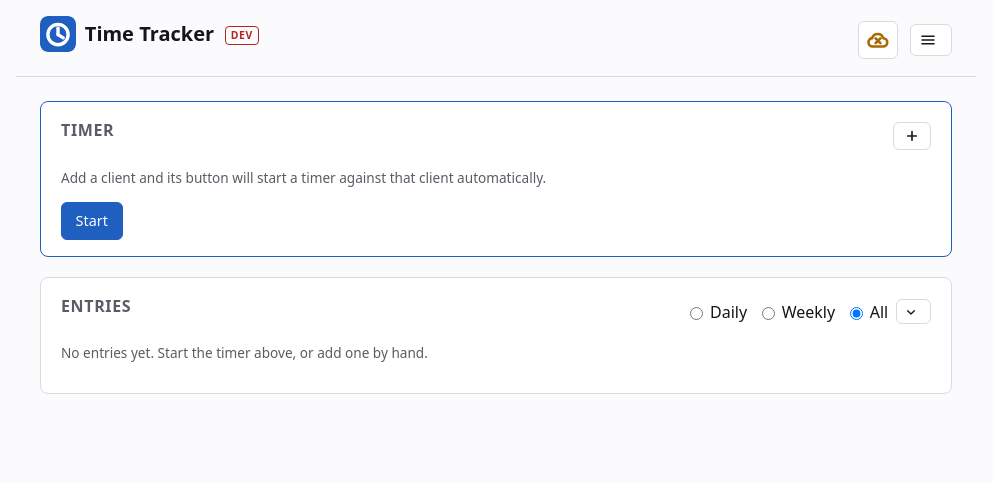
recording a timer (Phase 2A gate) › is a no-op when a timer is already running
Click the button "Start": point(92, 221) [61, 202, 122, 240]
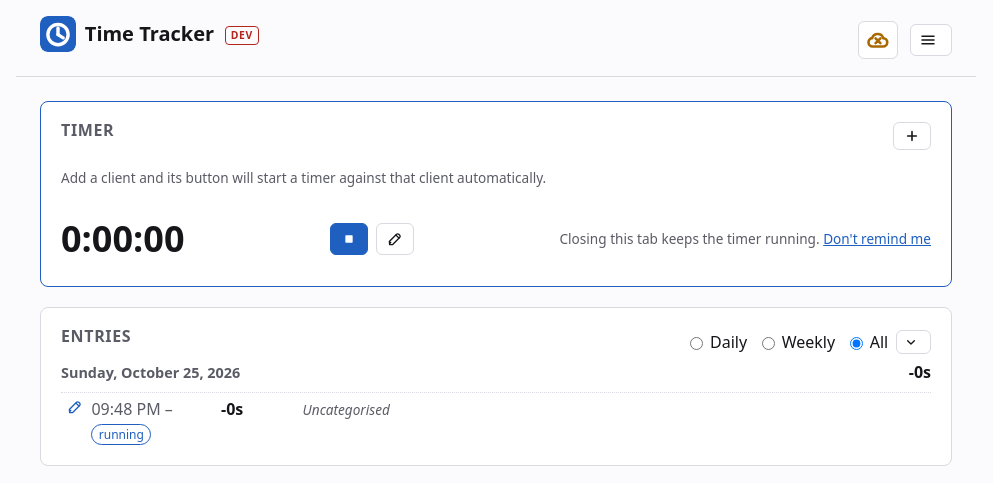
Result: the button named "Stop the timer" is shown at [330, 223, 368, 255]
